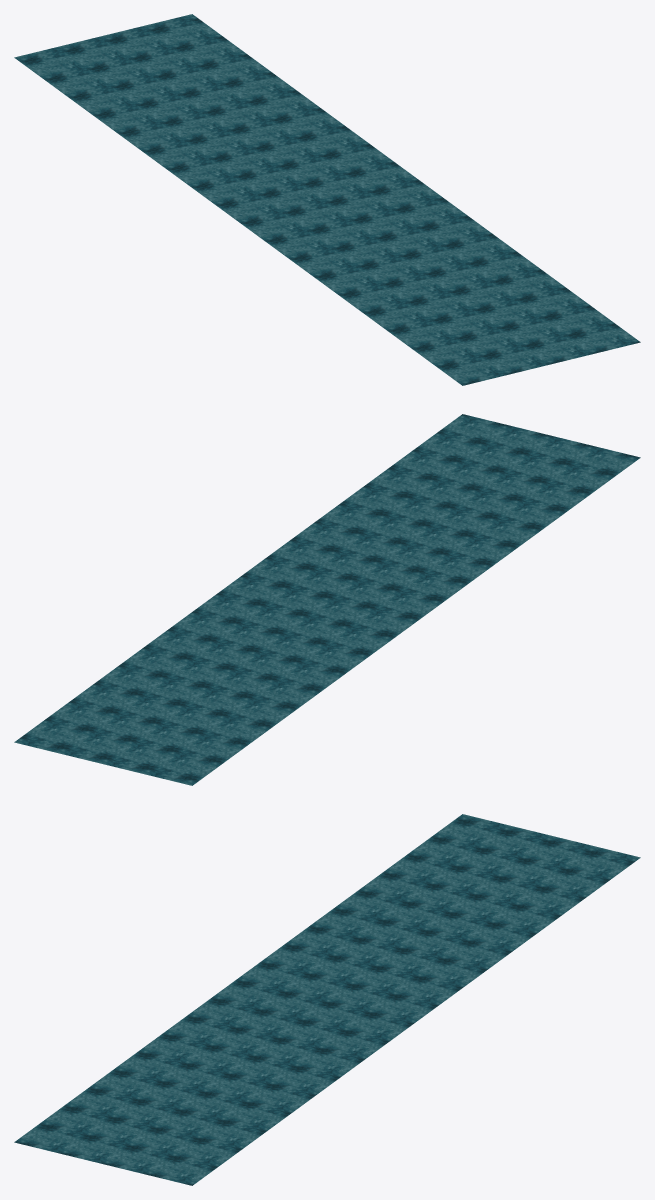
Rendered from water.fbx.
3 renders of one model, top to bottom at view 1: azimuth 30°, elevation 25°; view 2: azimuth 150°, elevation 25°; view 3: azimuth 330°, elevation 25°, orthographic.
Visible parts, largest first — view 1: Plane; view 2: Plane; view 3: Plane.
Part boxes in pixels (left/top/right/bottom): Plane: left=14, top=14, right=640, bottom=385; Plane: left=14, top=414, right=640, bottom=785; Plane: left=14, top=814, right=640, bottom=1185.
Bounding box in the file's own units: 8400 × 0 × 36597.
Materials: 1 (1 with a texture image).
